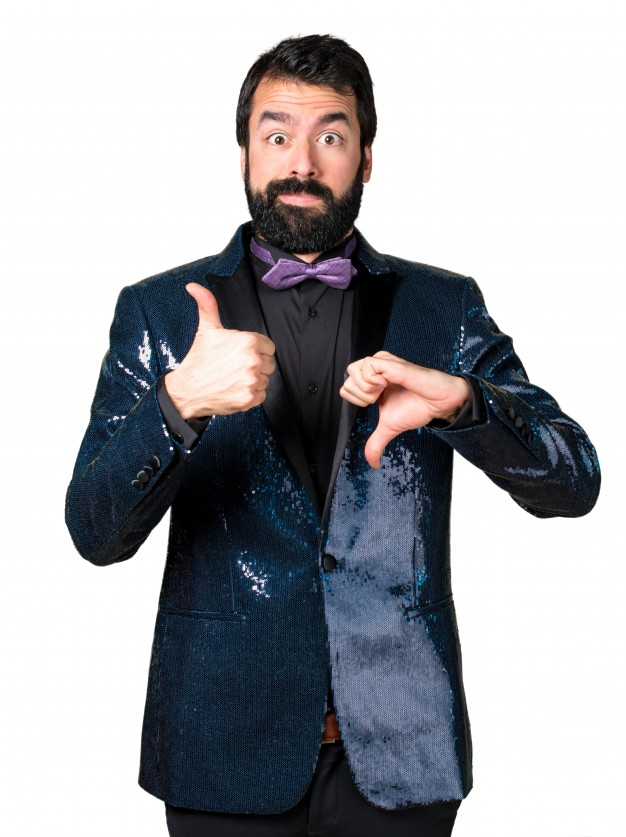thumbsup: (185, 282, 276, 408)
